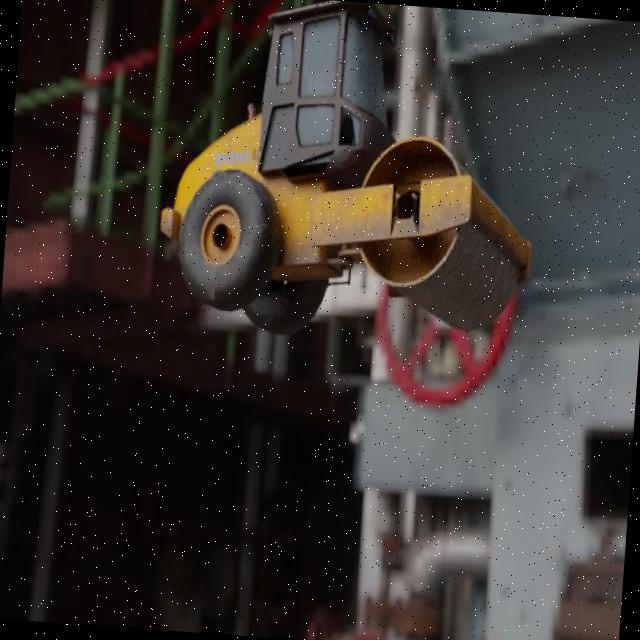Roller: (152, 0, 548, 351)
